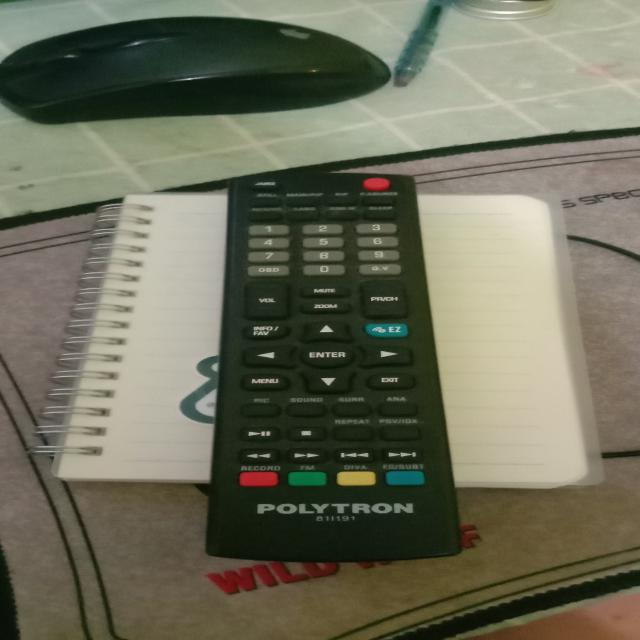remote: (193, 172, 459, 571)
